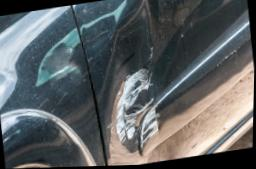Door: (72, 0, 195, 167)
Fender: (0, 12, 114, 169)
